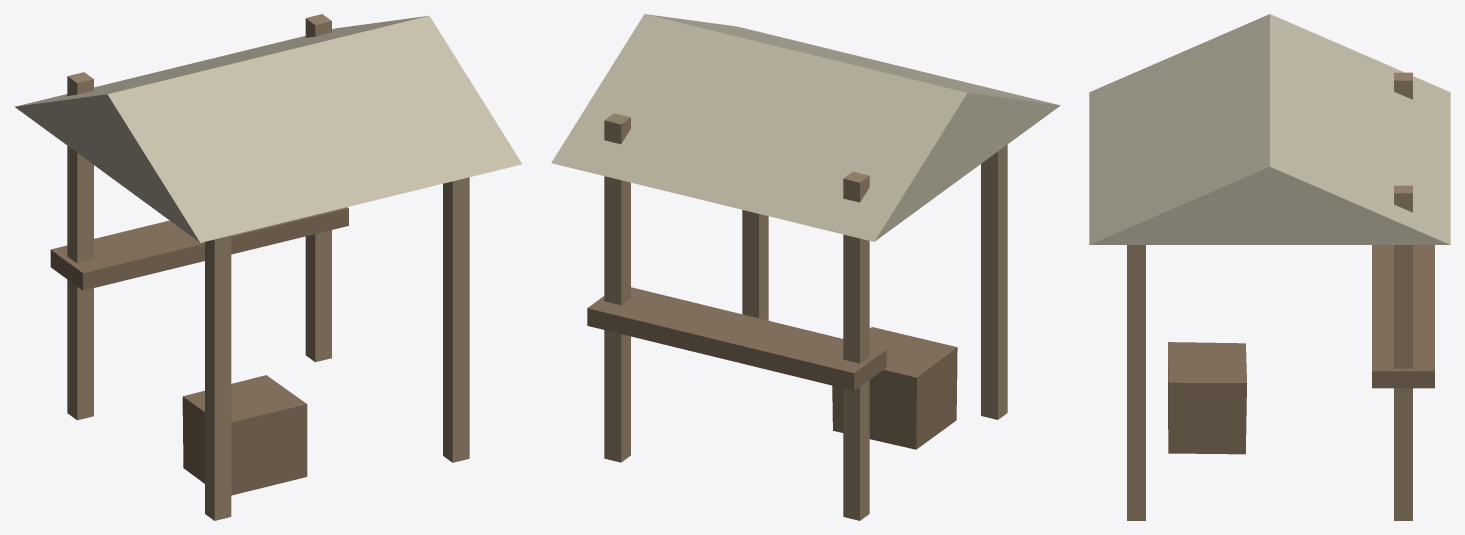
File: market_stall.glb
3 views of the same model, side by side, from view 1: azimuth 30°, elevation 25°; view 2: azimuth 150°, elevation 25°; view 3: azimuth 270°, elevation 25° (orthographic). The views are drawn at different scales.
Parts seen in each view (by area): view 1: market_stall; view 2: market_stall; view 3: market_stall.
Boxes of the visible parts, x1,y1,x2,y2 form: market_stall: [14, 14, 521, 520]; market_stall: [551, 14, 1060, 520]; market_stall: [1089, 14, 1450, 520].
Size of the model in its own units: 2.3 by 2.6 by 2.3.
